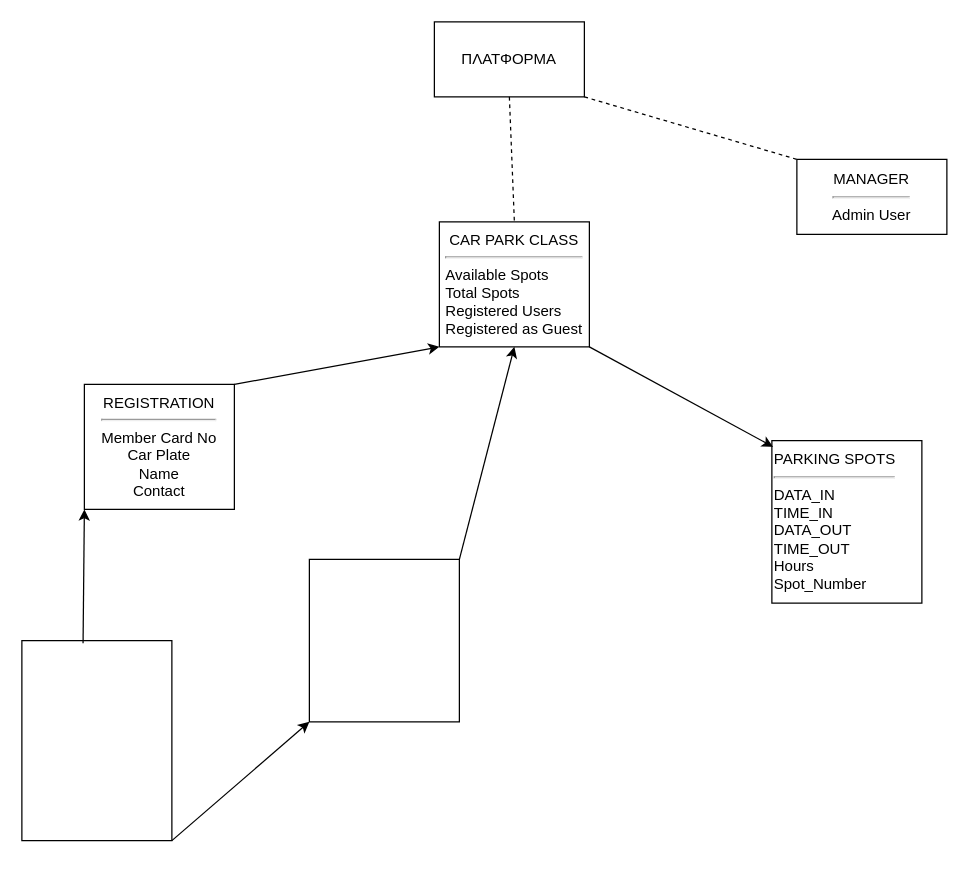
Image size: 969x873. Some labels were removed from this diagram. The shapes that lost their labels are listed below. From the top down, each one's box as (x1, y1, x2, y2) in pixels, then its label:
(308, 558, 459, 722): REGISTER AS GUEST Name Car Plate
(21, 639, 172, 841): CUSTOMER CLASS Member Card No Name Address Contact Car Type Car Plate Car Color
